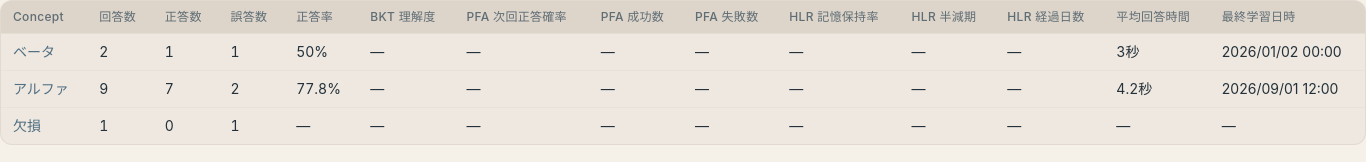
it: DataLabTable › 列クリックで asc / desc を切り替え、数値列は生値で並べる
Click the button with aria-label "回答数で並べ替え". click: (118, 17)
box: [99, 9, 136, 25]
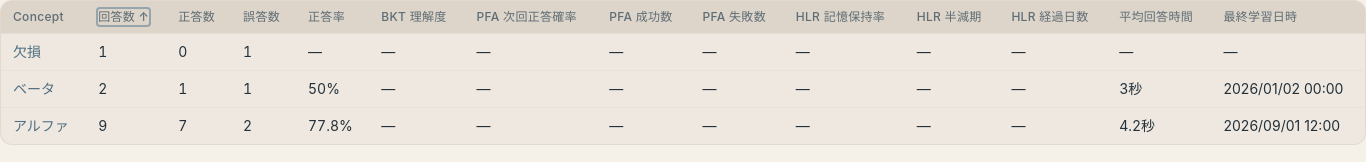
Expected: the button with aria-label "回答数で並べ替え" reads "回答数 ↑"
Click the button with aria-label "回答数で並べ替え". click: (124, 17)
box: [98, 9, 149, 25]
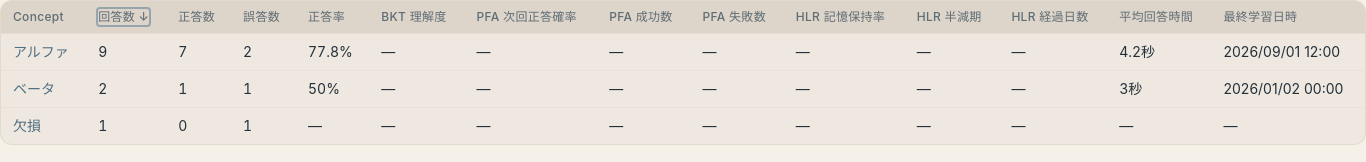
Expected: the button with aria-label "回答数で並べ替え" reads "回答数 ↓", [98, 9, 149, 25]
